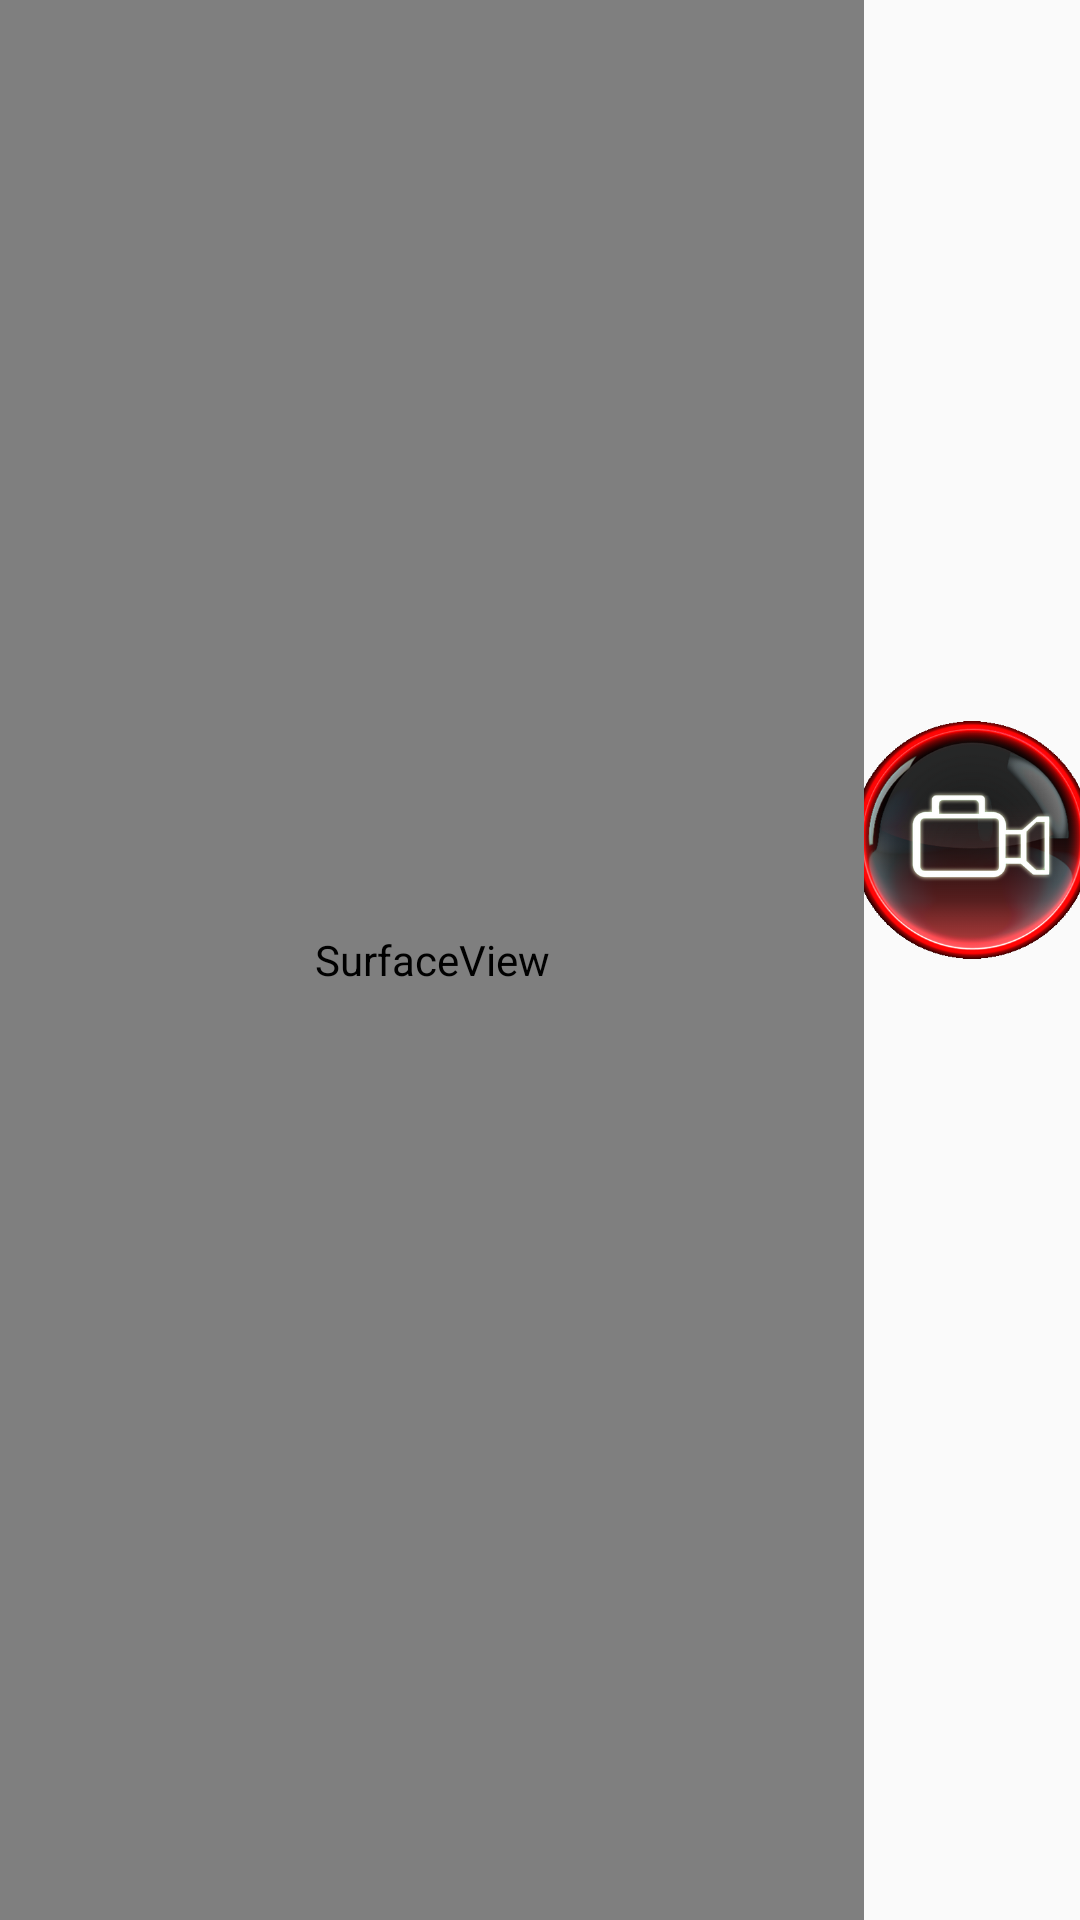

Icon click points for this 1080*1920 phone screenshot, format point (x, y):
video: point (972, 840)
